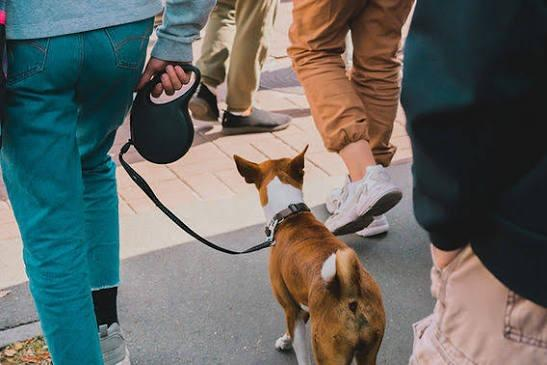adult_dog: (232, 142, 387, 365)
